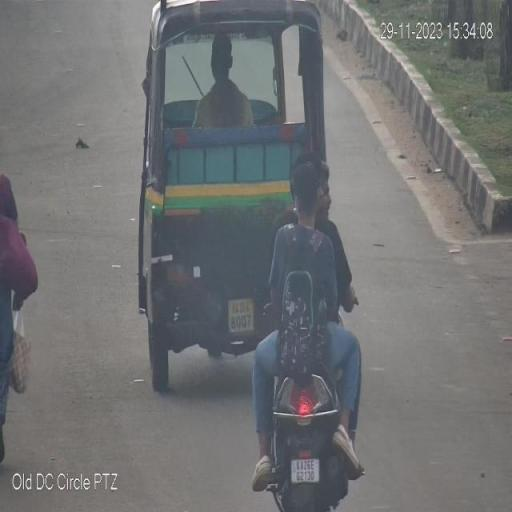tripple riding: (248, 148, 368, 368)
